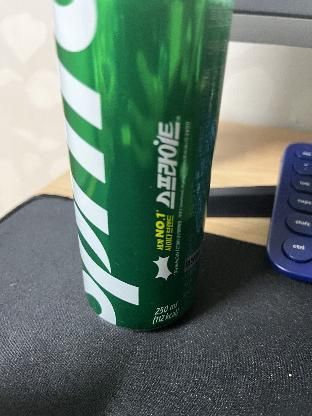Can: (54, 0, 232, 335)
